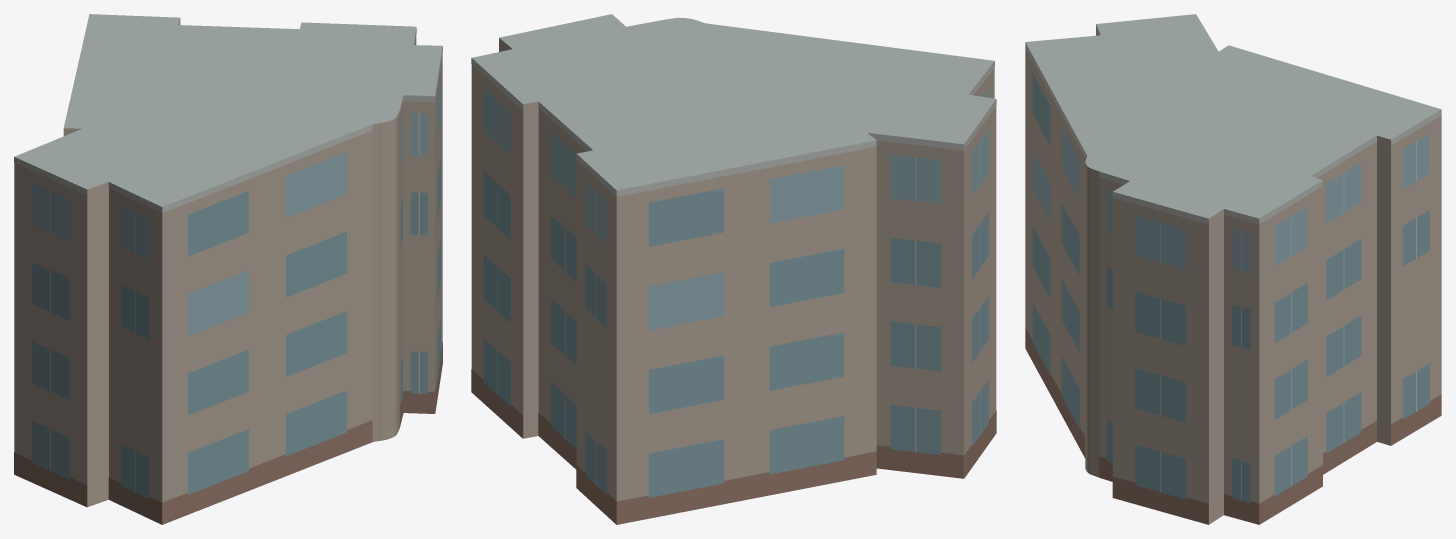
The model's file is survey-upis-33039072.glb.
3 views of the same model, side by side, from view 1: azimuth 30°, elevation 25°; view 2: azimuth 150°, elevation 25°; view 3: azimuth 270°, elevation 25° (orthographic). The views are drawn at different scales.
Visible parts, largest first — view 1: survey-upis-33039072.tmp; view 2: survey-upis-33039072.tmp; view 3: survey-upis-33039072.tmp.
Boxes of the visible parts, <box> form: survey-upis-33039072.tmp: <box>14,14,442,524</box>; survey-upis-33039072.tmp: <box>471,14,996,524</box>; survey-upis-33039072.tmp: <box>1025,14,1441,524</box>.
Bounding box in the file's own units: 18.07 × 12.6 × 15.54.
